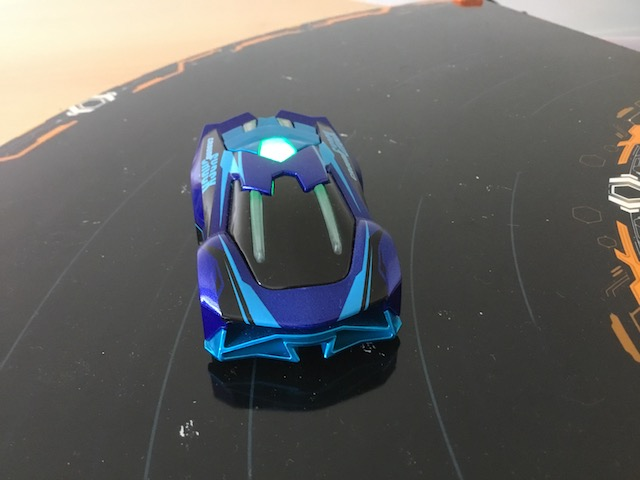car-blue: (182, 107, 408, 381)
